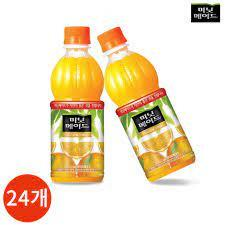minutemaid_org_orange: (100, 27, 203, 179), (41, 16, 106, 183)
